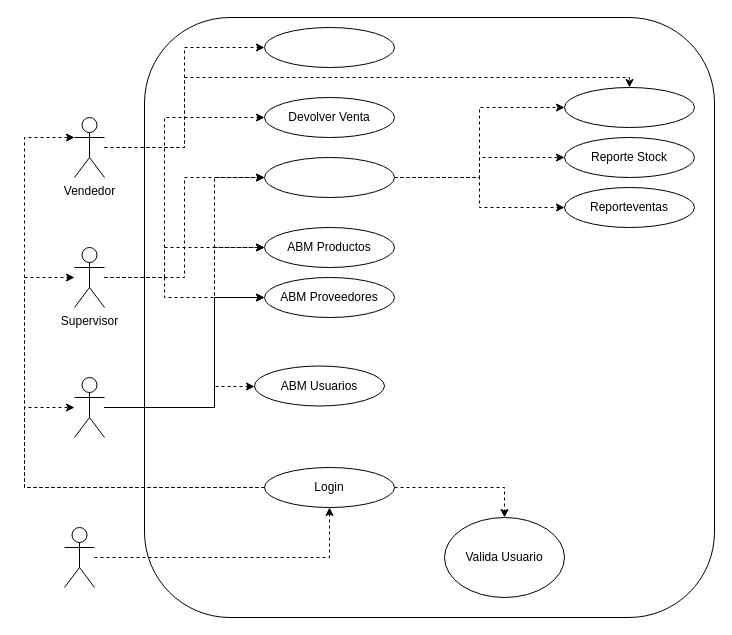
Image size: 732x635. Some labels were removed from this diagram. The shapes that lost their labels are listed below. From the top down, each one's box as (x1, y1, x2, y2) in pixels, then its label:
(264, 26, 394, 68): Registrar venta
(564, 86, 694, 128): Reporte vendidos
(264, 156, 394, 198): Reportes
(74, 376, 104, 438): Admin
(64, 526, 94, 588): Usuario Generico
